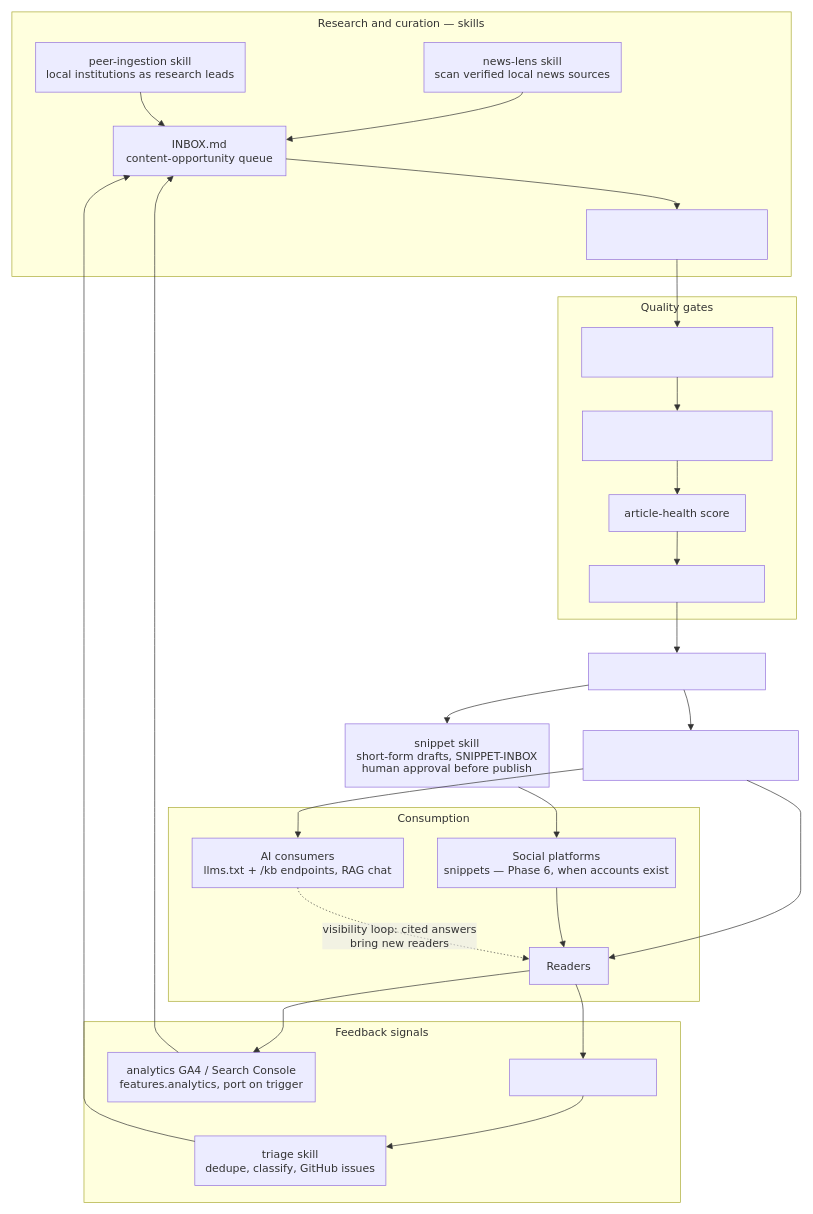
Some shapes in this 813 by 1214 pixel diagram are drawn without their labels. The centre of each missing label's shape, as x and y in pixels:
build + deploy via CI genericity gate · smoke · link check: pixel 690 755
factcheck claims audited against sources: pixel 677 435
feedback worker + D1: pixel 583 1077
human review and approval: pixel 677 583
knowledge/ — SSOT commit: pixel 676 671
validate frontmatter + cross-references: pixel 677 352
write/rewrite skill drafts per editorial playbook: pixel 676 234
